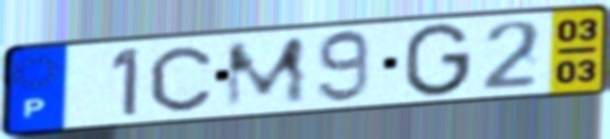1: (107, 45, 144, 120)
2: (479, 18, 546, 93)
9: (311, 26, 374, 107)
C: (146, 44, 215, 114)
G: (400, 21, 476, 100)
M: (222, 33, 311, 112)
